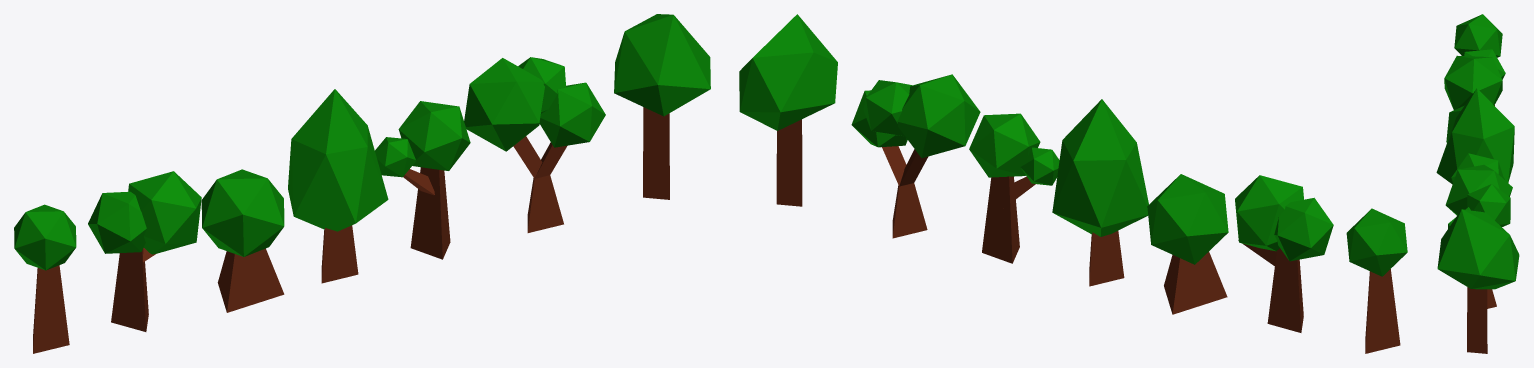
The model's file is trees-lowpoly.obj.
The picture shows the model from 3 angles, left to right: view 1: azimuth 30°, elevation 25°; view 2: azimuth 150°, elevation 25°; view 3: azimuth 270°, elevation 25°; orthographic projection. The views are drawn at different scales.
Parts seen in each view (by area): view 1: tree.008_Circle.011_laeves, tree.006_Circle.007_laeves, tree.007_Circle.010_laeves, tree.001_Circle.001_laeves, tree.003_Circle.003_laeves, tree.004_Circle.004_laeves, tree.000_Circle.000_laeves, tree.004_Circle.004_bark, tree.003_Circle.003_bark, tree.006_Circle.007_bark, tree.000_Circle.000_bark, tree.001_Circle.001_bark (+2 smaller); view 2: tree.008_Circle.011_laeves, tree.007_Circle.010_laeves, tree.006_Circle.007_laeves, tree.001_Circle.001_laeves, tree.003_Circle.003_laeves, tree.004_Circle.004_laeves, tree.000_Circle.000_laeves, tree.004_Circle.004_bark, tree.003_Circle.003_bark, tree.001_Circle.001_bark, tree.006_Circle.007_bark, tree.000_Circle.000_bark (+2 smaller); view 3: tree.007_Circle.010_laeves, tree.008_Circle.011_laeves, tree.006_Circle.007_laeves, tree.001_Circle.001_laeves, tree.000_Circle.000_laeves, tree.007_Circle.010_bark, tree.004_Circle.004_laeves, tree.003_Circle.003_laeves, tree.006_Circle.007_bark.
Part boxes in pixels (x1,y1,x2,y2): tree.008_Circle.011_laeves: (288,89,388,231); tree.006_Circle.007_laeves: (464,57,605,151); tree.007_Circle.010_laeves: (614,14,710,116); tree.001_Circle.001_laeves: (88,171,201,254); tree.003_Circle.003_laeves: (201,169,284,256); tree.004_Circle.004_laeves: (375,101,470,177); tree.000_Circle.000_laeves: (14,204,76,270); tree.004_Circle.004_bark: (403,167,450,259); tree.003_Circle.003_bark: (217,248,284,312); tree.006_Circle.007_bark: (513,136,567,232); tree.000_Circle.000_bark: (33,265,69,353); tree.001_Circle.001_bark: (111,248,156,331); tree.008_Circle.011_laeves: (1052,99,1148,236); tree.007_Circle.010_laeves: (739,14,837,130); tree.006_Circle.007_laeves: (851,74,980,158); tree.001_Circle.001_laeves: (1235,175,1333,261); tree.003_Circle.003_laeves: (1147,174,1228,264); tree.004_Circle.004_laeves: (969,113,1059,185); tree.000_Circle.000_laeves: (1346,208,1407,276); tree.004_Circle.004_bark: (982,176,1035,263); tree.003_Circle.003_bark: (1164,252,1227,314); tree.001_Circle.001_bark: (1238,240,1303,332); tree.006_Circle.007_bark: (882,146,928,238); tree.000_Circle.000_bark: (1365,269,1400,353); tree.007_Circle.010_laeves: (1437,209,1519,289); tree.008_Circle.011_laeves: (1436,88,1514,184); tree.006_Circle.007_laeves: (1445,164,1512,228); tree.001_Circle.001_laeves: (1444,49,1505,109); tree.000_Circle.000_laeves: (1454,14,1502,57); tree.007_Circle.010_bark: (1467,287,1487,353); tree.004_Circle.004_laeves: (1451,153,1504,182); tree.003_Circle.003_laeves: (1446,105,1464,142); tree.006_Circle.007_bark: (1487,289,1496,308).
Bounding box in the file's own units: 165 × 42.39 × 22.31.
